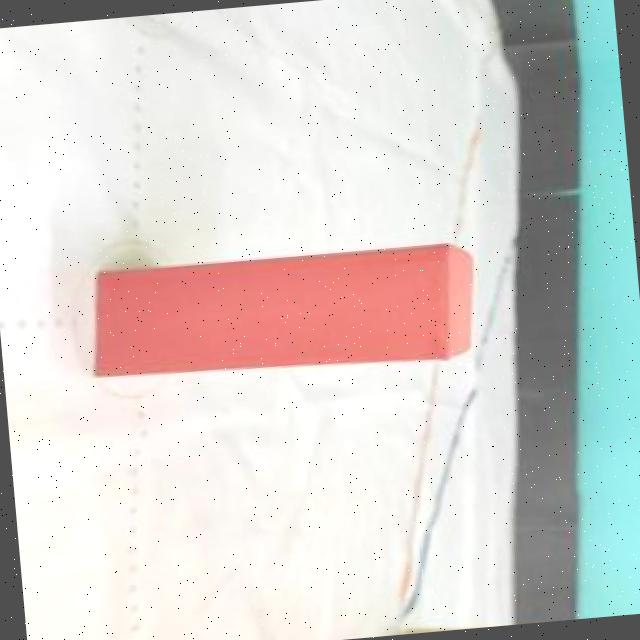redbox: (82, 234, 485, 388)
